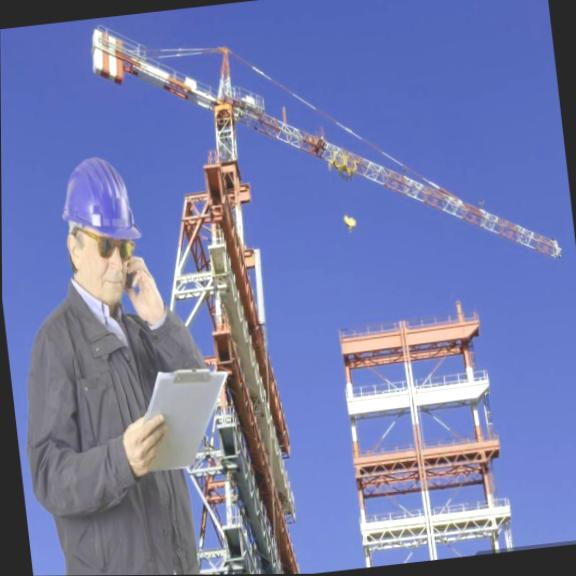no_safety_vest: (5, 275, 233, 576)
